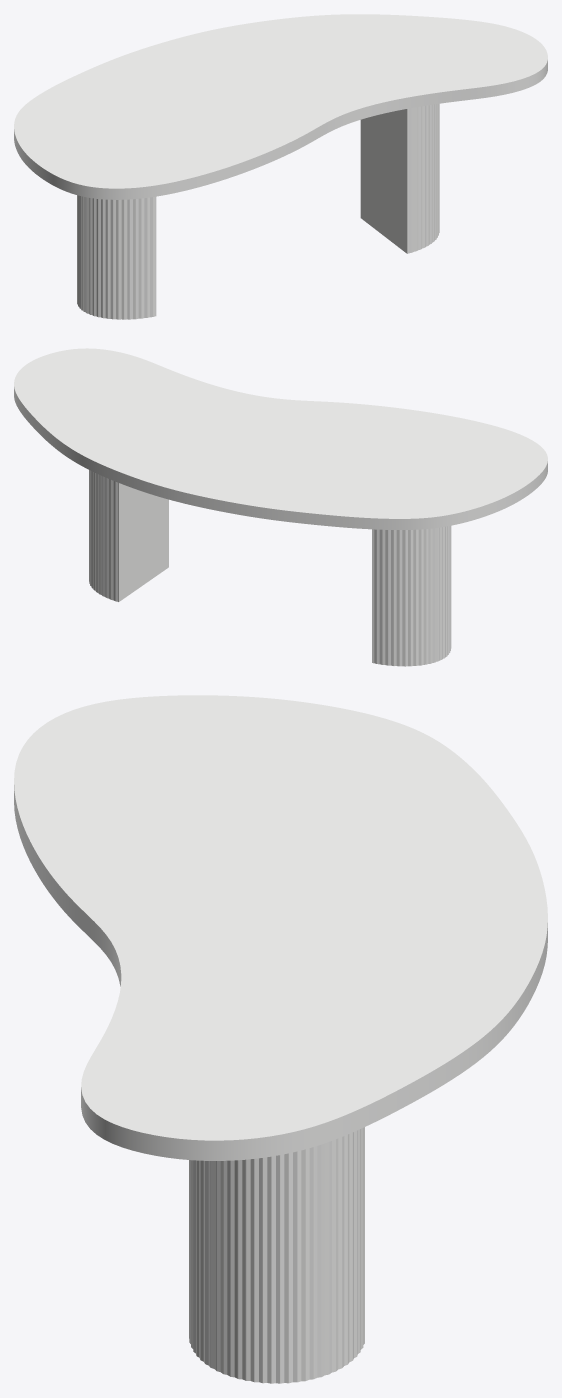
File: purewhite_leaf1_standard_flute.glb
The picture shows the model from 3 angles, top to bottom: view 1: azimuth 30°, elevation 25°; view 2: azimuth 150°, elevation 25°; view 3: azimuth 270°, elevation 25°; orthographic projection. The views are drawn at different scales.
Parts seen in each view (by area): view 1: standard_leaf1, flute; view 2: standard_leaf1, flute; view 3: standard_leaf1, flute.
Boxes of the visible parts, x1,y1,x2,y2 form: standard_leaf1: (14, 14, 547, 199); flute: (77, 103, 439, 319); standard_leaf1: (14, 348, 547, 529); flute: (89, 470, 451, 666); standard_leaf1: (14, 695, 547, 1160); flute: (189, 1127, 364, 1383).
Size of the model in its own units: 7.5 by 2.51 by 3.8.
Materials: 1 (1 with a texture image).
